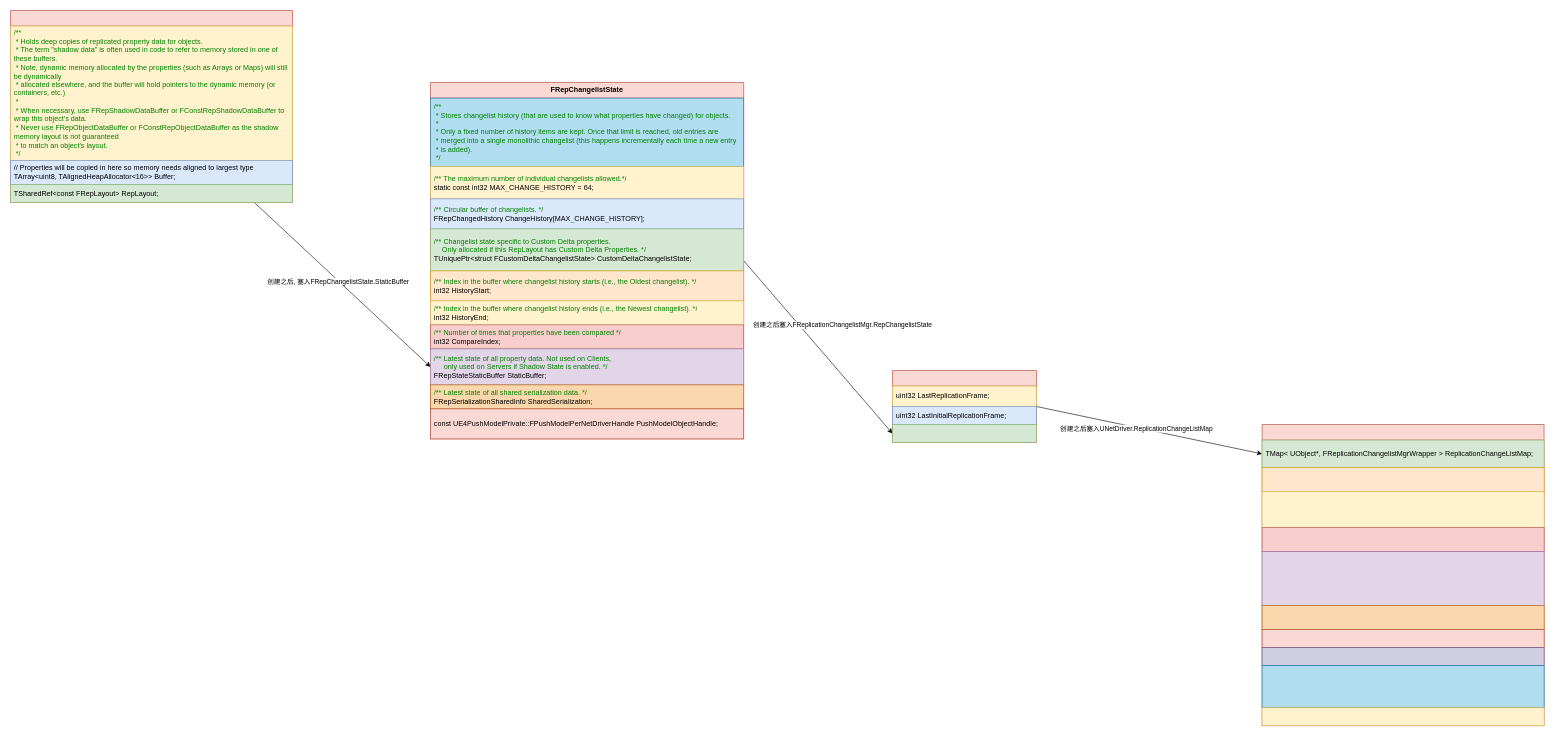
This 1555x736 diagram has some shape labels left out. The shapes that lost their labels are listed below. From the top down, each one's box as (x1, y1, x2, y2) in pixels, then its label:
(10, 10, 292, 202): FRepStateStaticBuffer
(892, 370, 1036, 442): FReplicationChangelistMgr
(892, 424, 1036, 442): FRepChangelistState RepChangelistState;
(1262, 424, 1544, 726): UNetDriver
